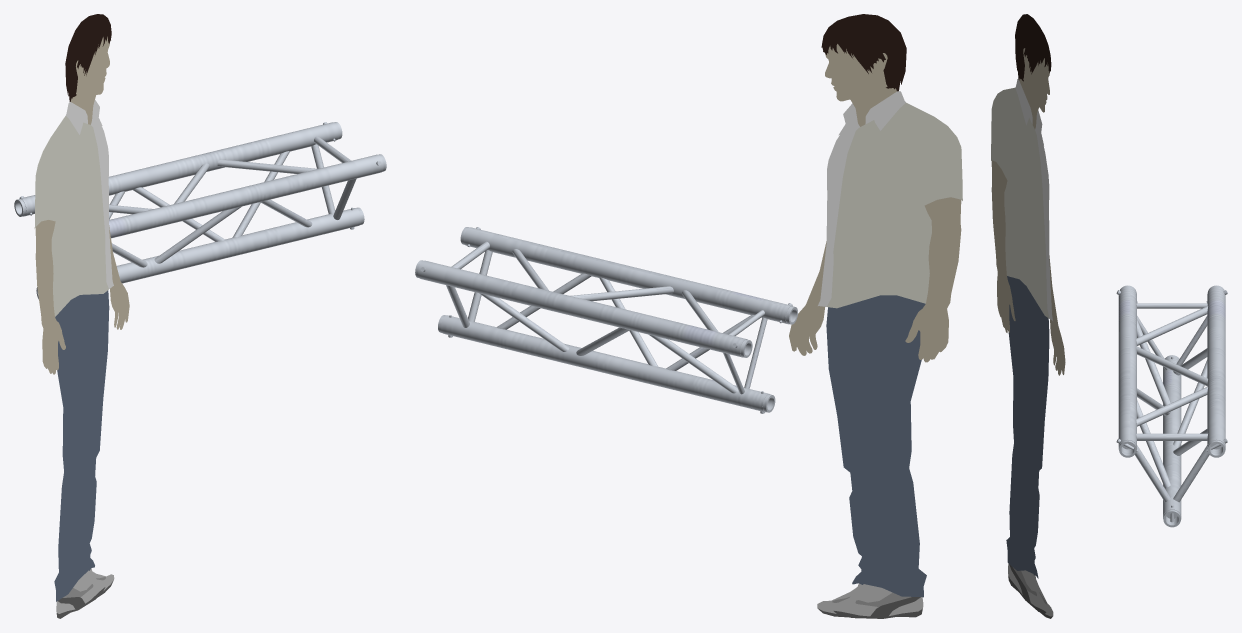
The model's file is TRUSS_FD33_1M-bbda2fc8.glb.
3 views of the same model, side by side, from view 1: azimuth 30°, elevation 25°; view 2: azimuth 150°, elevation 25°; view 3: azimuth 270°, elevation 25° (orthographic). The views are drawn at different scales.
Visible parts, largest first — view 1: Geom3D (×6), Geom3D_Sang; view 2: Geom3D (×7), Geom3D_Sang; view 3: Geom3D (×7), Geom3D_Sang.
Boxes of the visible parts, bbox=[...] form: Geom3D (×6): bbox=[14, 14, 386, 613]; Geom3D_Sang: bbox=[66, 100, 113, 288]; Geom3D (×7): bbox=[415, 14, 962, 618]; Geom3D_Sang: bbox=[818, 91, 905, 306]; Geom3D (×7): bbox=[991, 14, 1227, 618]; Geom3D_Sang: bbox=[1015, 79, 1052, 320].
Size of the model in its own units: 1.3 by 1.76 by 0.6407.
Materials: 9 (1 with a texture image).
